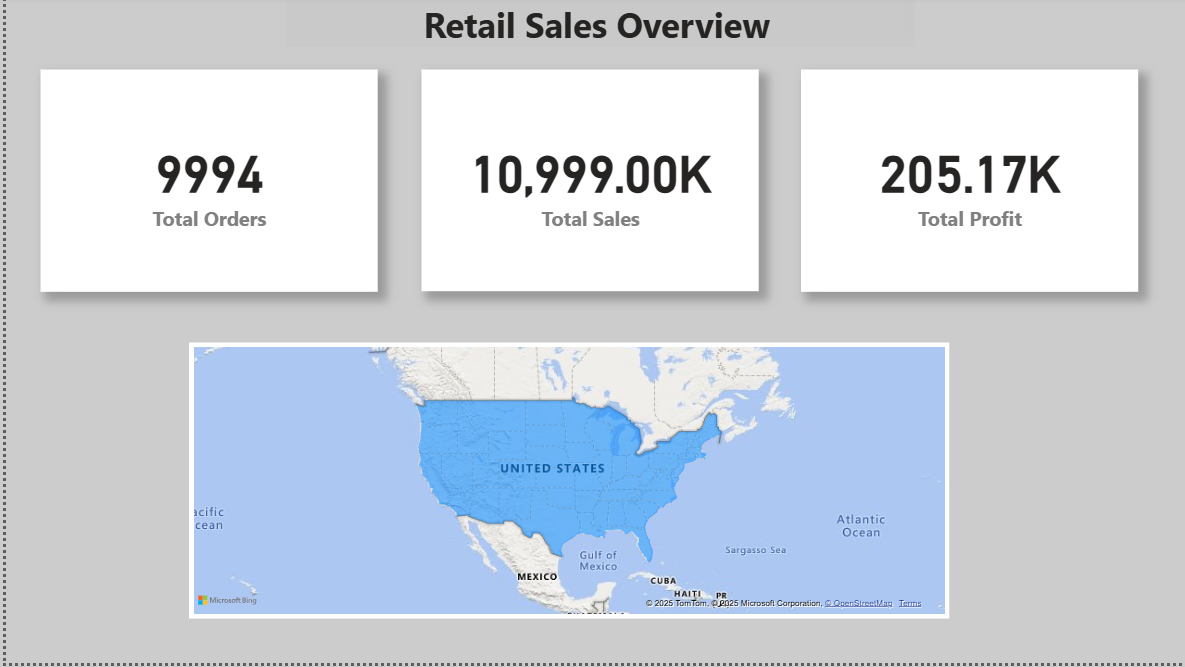

This screenshot's page, from the dashboard's own definition file:
{"tool":"powerbi","page":{"name":"Page 2","canvas":[1280,720],"ordinal":0},"visuals":[{"type":"card","fields":{"Values":["df_orders (2).TotalOrders"]},"box":[37.2,79.9,364,240],"z":0},{"type":"filledMap","fields":{"Category":["df_orders (2).state"]},"box":[197.5,374,820.9,297.9],"z":1000},{"type":"card","fields":{"Values":["df_orders (2).TotalSales"]},"box":[448.5,79.3,364.3,239.6],"z":2000},{"type":"textbox","box":[302.4,0,678.4,54.8],"z":3000},{"type":"card","fields":{"Values":["df_orders (2).TotalProfitMargin"]},"box":[858,79.4,364,240],"z":4000}]}

Visuals, with their boxes in screenshot pixels (x1, y1, x2, y2), scaled from the page's 1280x720 canvas onto the 1185x667 screenshot:
card - df_orders (2).TotalOrders: 34:74:371:296
filledMap - df_orders (2).state: 183:346:943:622
card - df_orders (2).TotalSales: 415:73:752:295
textbox: 280:0:908:51
card - df_orders (2).TotalProfitMargin: 794:74:1131:296
